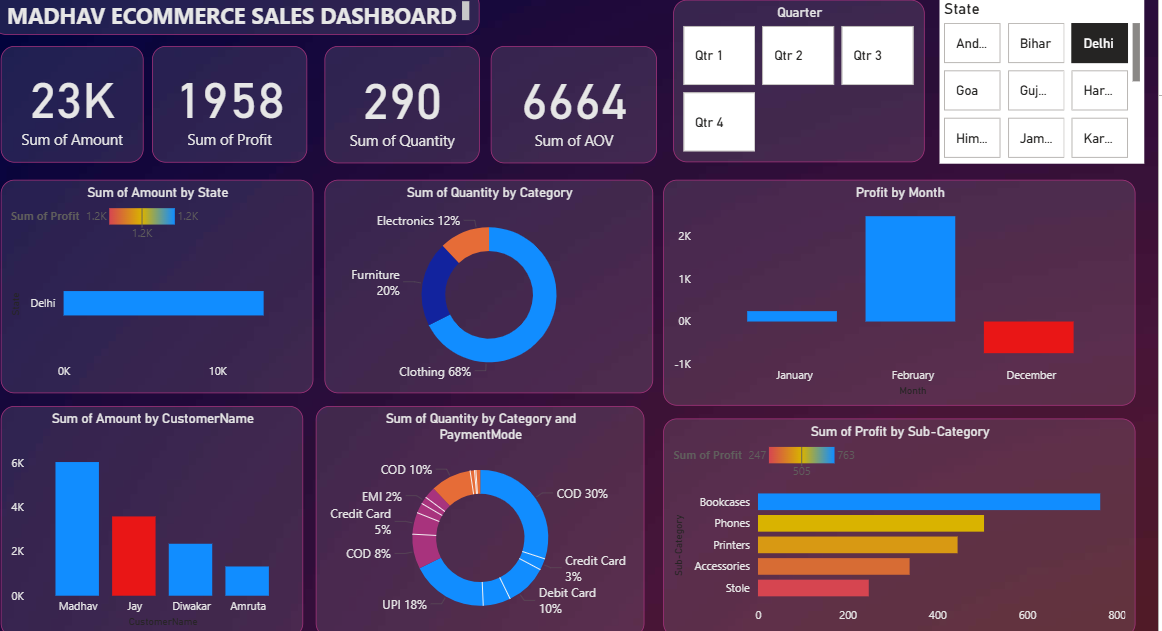

What the dashboard file says about the page in this screenshot:
{"tool":"powerbi","page":{"name":"Page 1","canvas":[1280,720],"ordinal":0},"visuals":[{"type":"textbox","box":[0,0,535.2,48],"z":0},{"type":"columnChart","title":" Profit by Month","fields":{"Category":["Orders (1).Order Date.Variation.Date Hierarchy.Month"],"Y":["Details.Profit"]},"box":[736.9,207.2,518.7,248.4],"z":1000},{"type":"barChart","fields":{"Category":["Details.Sub-Category"],"Y":["Details.Profit"]},"box":[736.9,469.3,518.7,240.1],"z":2000},{"type":"donutChart","fields":{"Category":["Details.Category"],"Y":["Details.Quantity"],"Series":["Details.PaymentMode"]},"box":[355.4,455.6,360.9,253.9],"z":3000},{"type":"donutChart","fields":{"Category":["Details.Category"],"Y":["Details.Quantity"]},"box":[365,207.2,360.9,234.6],"z":4000},{"type":"card","fields":{"Values":["Details.Amount"]},"box":[9.6,60.4,156.4,127.6],"z":5000},{"type":"card","fields":{"Values":["Details.Quantity"]},"box":[365,60.4,170.2,129],"z":6000},{"type":"card","fields":{"Values":["Details.AOV"]},"box":[547.5,60.4,182.5,129],"z":7000},{"type":"card","fields":{"Values":["Details.Profit"]},"box":[175.6,60.4,170.2,127.6],"z":8000},{"type":"barChart","fields":{"Category":["Orders (1).State"],"Y":["Details.Amount"]},"box":[9.6,207.2,343.1,234.6],"z":9000},{"type":"columnChart","fields":{"Category":["Orders (1).CustomerName"],"Y":["Details.Amount"]},"box":[9.6,455.6,332.1,253.9],"z":10000},{"type":"advancedSlicerVisual","fields":{"Values":["Orders (1).State"]},"box":[1040.1,9.6,225,179.8],"z":12000},{"type":"advancedSlicerVisual","fields":{"Values":["Orders (1).Order Date.Variation.Date Hierarchy.Quarter"]},"box":[747.9,9.6,275.8,178.4],"z":12001}]}

Visuals, with their boxes on the page's 1280x720 design canvas (x1, y1, x2, y2). These are canvas units, not pixel positions in the 1162x631 screenshot, which may show the page scaled, cropped or inside an application window:
textbox: <box>0,0,535,48</box>
" Profit by Month" columnChart: <box>737,207,1256,456</box>
barChart - Details.Sub-Category x Details.Profit: <box>737,469,1256,709</box>
donutChart - Details.Category x Details.Quantity: <box>355,456,716,710</box>
donutChart - Details.Category x Details.Quantity: <box>365,207,726,442</box>
card - Details.Amount: <box>10,60,166,188</box>
card - Details.Quantity: <box>365,60,535,189</box>
card - Details.AOV: <box>548,60,730,189</box>
card - Details.Profit: <box>176,60,346,188</box>
barChart - Orders (1).State x Details.Amount: <box>10,207,353,442</box>
columnChart - Orders (1).CustomerName x Details.Amount: <box>10,456,342,710</box>
advancedSlicerVisual - Orders (1).State: <box>1040,10,1265,189</box>
advancedSlicerVisual - Orders (1).Order Date.Variation.Date Hierarchy.Quarter: <box>748,10,1024,188</box>
